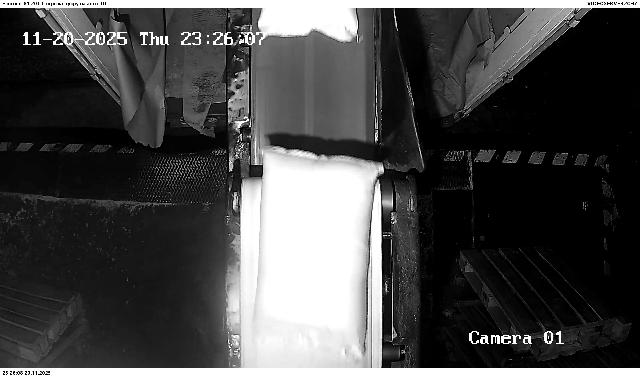bag: (251, 147, 384, 357), (258, 8, 359, 42)
